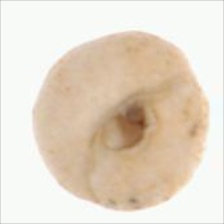L3: (95, 100, 160, 150)
L4: (33, 30, 211, 212)
